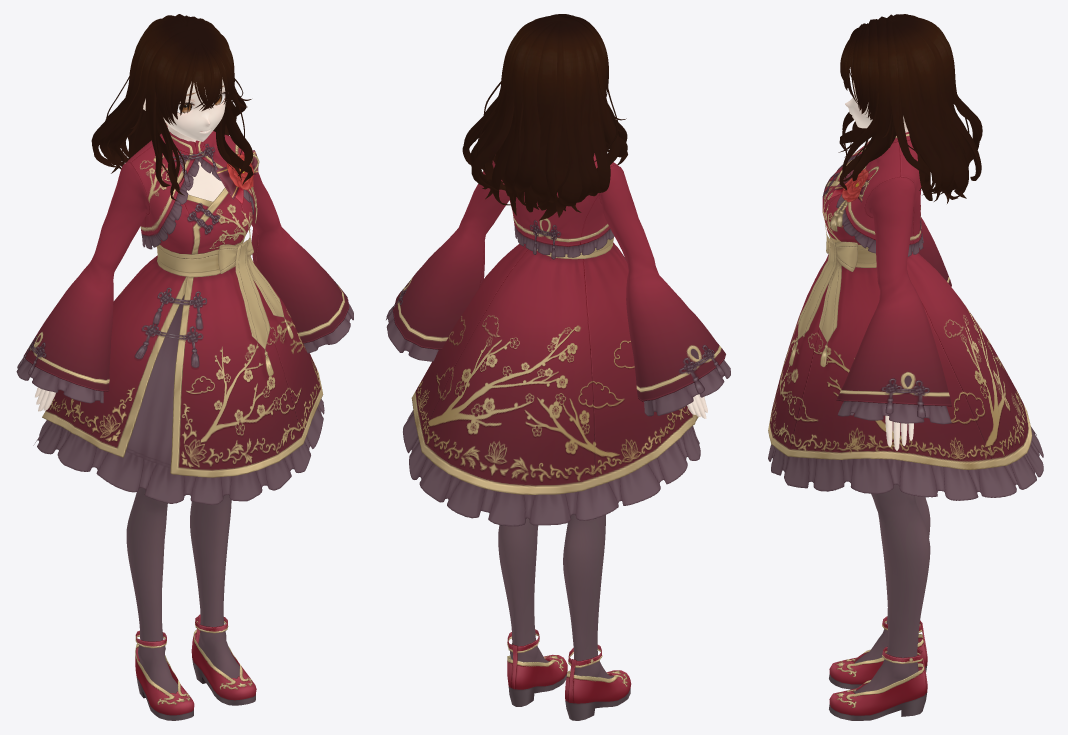
The picture shows the model from 3 angles, left to right: view 1: azimuth 30°, elevation 25°; view 2: azimuth 150°, elevation 25°; view 3: azimuth 270°, elevation 25°; orthographic projection. The views are drawn at different scales.
Parts seen in each view (by area): view 1: Body, Hair, Face; view 2: Body, Hair; view 3: Body, Hair, Face.
Part boxes in pixels (x1=…): Body: x1=16, y1=123, x2=353, y2=720; Hair: x1=91, y1=14, x2=253, y2=200; Face: x1=143, y1=79, x2=228, y2=141; Body: x1=386, y1=153, x2=730, y2=720; Hair: x1=462, y1=14, x2=627, y2=220; Body: x1=768, y1=120, x2=1043, y2=720; Hair: x1=837, y1=14, x2=982, y2=203; Face: x1=845, y1=80, x2=904, y2=128.
Bounding box in the file's own units: 0.8241 × 1.63 × 0.6374.
Materials: 17 (17 with a texture image).
